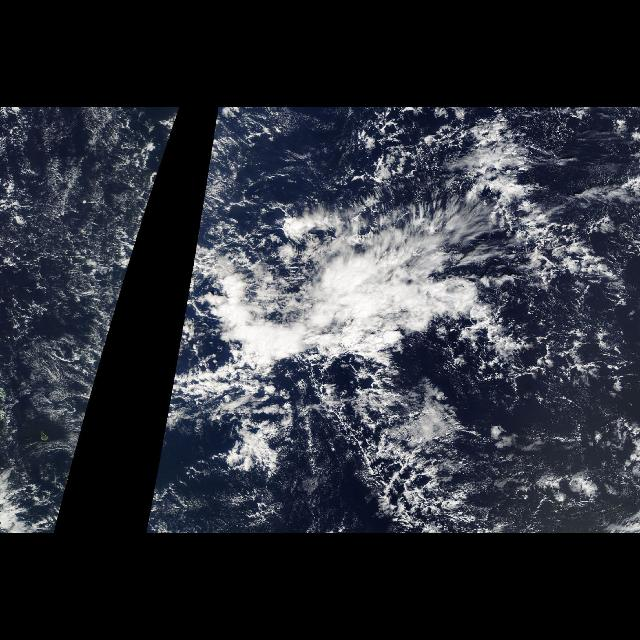Gravel: (290, 281, 640, 533)
Sugar: (4, 111, 130, 412)
